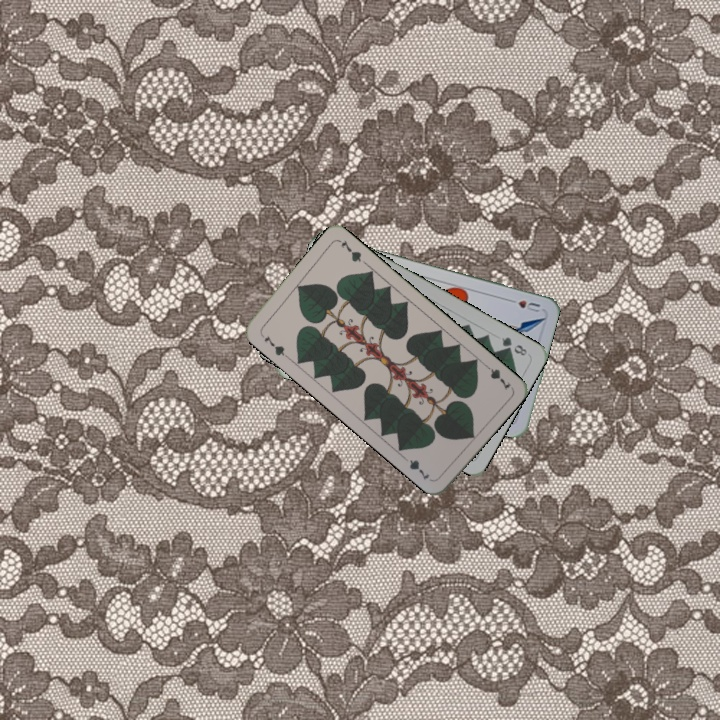G7: (479, 359, 513, 393), (260, 331, 291, 360)
G8: (497, 333, 530, 358)
HU: (504, 294, 543, 315)
